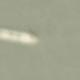ship: (13, 0, 20, 14)
